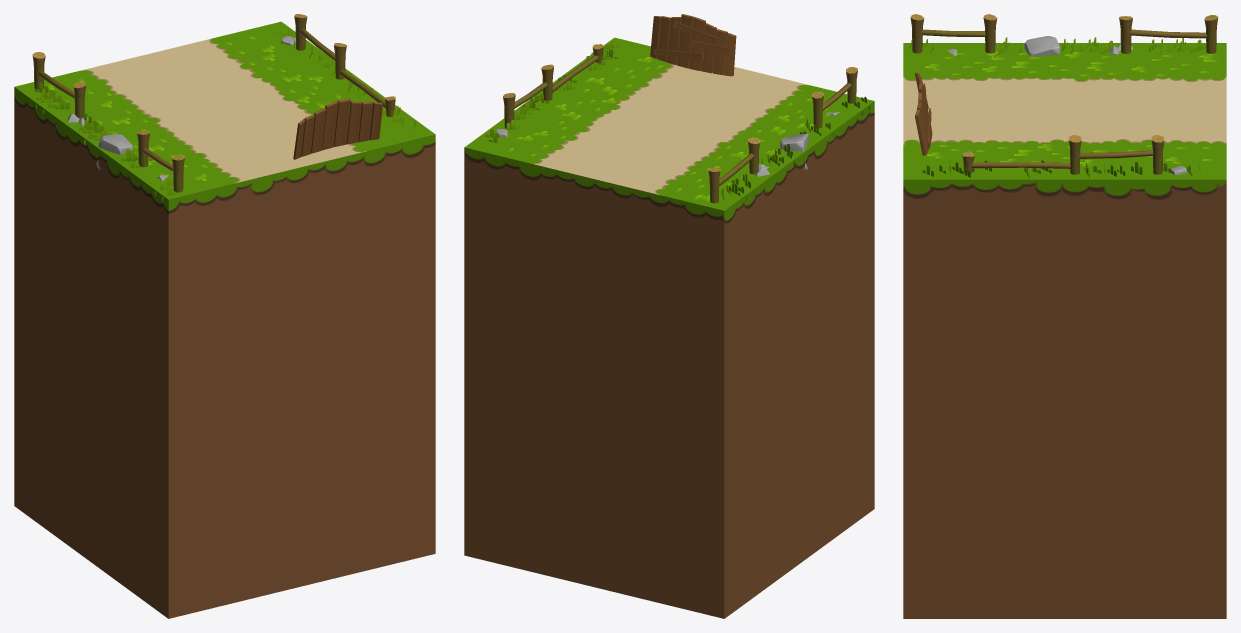
File: Plataforma Barricada Izq-Centro.fbx
3 views of the same model, side by side, from view 1: azimuth 30°, elevation 25°; view 2: azimuth 150°, elevation 25°; view 3: azimuth 270°, elevation 25° (orthographic). The views are drawn at different scales.
Parts seen in each view (by area): view 1: Plataforma 1.007, Plane.012; view 2: Plataforma 1.007; view 3: Plataforma 1.007, Cylinder.039, Cube.277, Cylinder.041, Cylinder.040, Cylinder.037, Cylinder.099.
Boxes of the visible parts, left/top/right/bottom form: Plataforma 1.007: left=14, top=21, right=435, bottom=618; Plane.012: left=333, top=98, right=350, bottom=146; Plataforma 1.007: left=464, top=37, right=874, bottom=618; Plataforma 1.007: left=903, top=43, right=1226, bottom=618; Cylinder.039: left=971, top=162, right=1070, bottom=168; Cube.277: left=1024, top=36, right=1059, bottom=56; Cylinder.041: left=1130, top=29, right=1207, bottom=38; Cylinder.040: left=1079, top=150, right=1153, bottom=158; Cylinder.037: left=983, top=14, right=997, bottom=53; Cylinder.099: left=910, top=14, right=924, bottom=53.
Bounding box in the file's own units: 1014 × 1676 × 1000.
